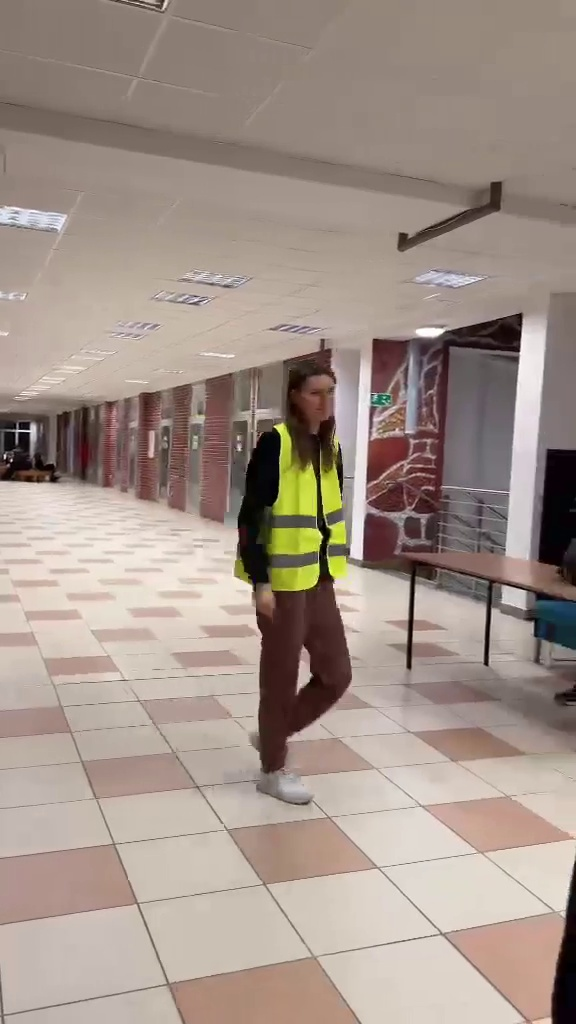vest: (237, 350, 372, 818)
